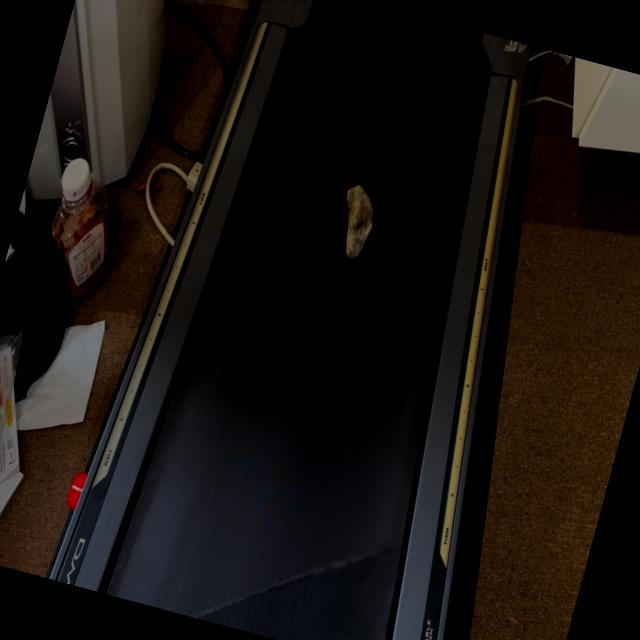Trash: (325, 180, 383, 268)
